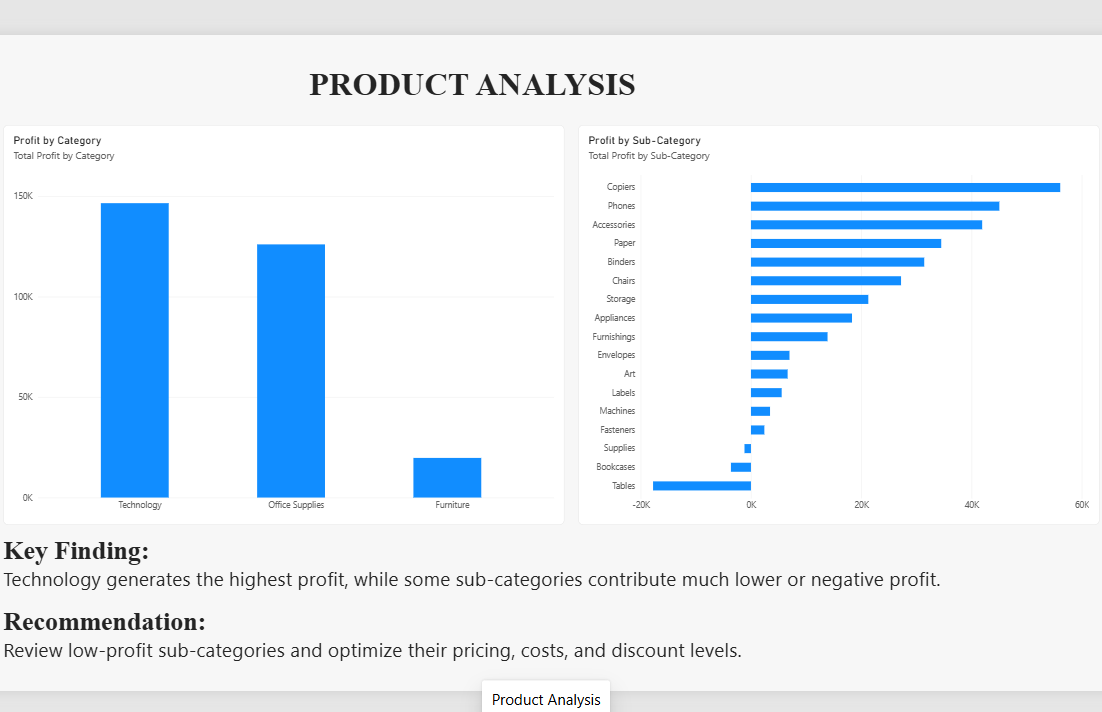

The dashboard page shown, as its layout file describes it:
{"tool":"powerbi","page":{"name":"Product Analysis","canvas":[1920,1080],"ordinal":2},"visuals":[{"type":"clusteredColumnChart","title":"Profit by Category","fields":{"Category":["Orders.Category"],"Y":["Orders.Total Profit"]},"box":[59.7,148.2,924.2,658.7],"z":0},{"type":"clusteredBarChart","title":"Profit by Sub-Category","fields":{"Category":["Orders.Sub-Category"],"Y":["Orders.Total Profit"]},"box":[1006.5,148.2,858.3,658.7],"z":1000},{"type":"textbox","box":[59.7,823.3,1860.7,133.8],"z":2000},{"type":"textbox","box":[59.7,940.7,1831.9,125.6],"z":3000},{"type":"textbox","box":[100.9,51.5,1463.5,133.8],"z":4000}]}

Visuals, with their boxes on the page's 1920x1080 design canvas (x1, y1, x2, y2). These are canvas units, not pixel positions in the 1102x712 screenshot, which may show the page scaled, cropped or inside an application window:
"Profit by Category" clusteredColumnChart: pyautogui.locateOnScreen(60, 148, 984, 807)
"Profit by Sub-Category" clusteredBarChart: pyautogui.locateOnScreen(1006, 148, 1865, 807)
textbox: pyautogui.locateOnScreen(60, 823, 1920, 957)
textbox: pyautogui.locateOnScreen(60, 941, 1892, 1066)
textbox: pyautogui.locateOnScreen(101, 52, 1564, 185)
